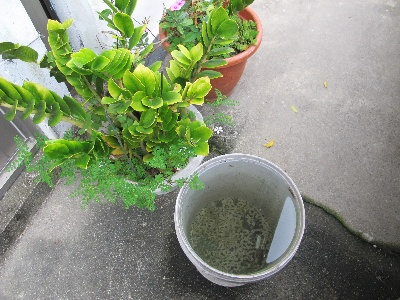bucket: (173, 152, 306, 289)
